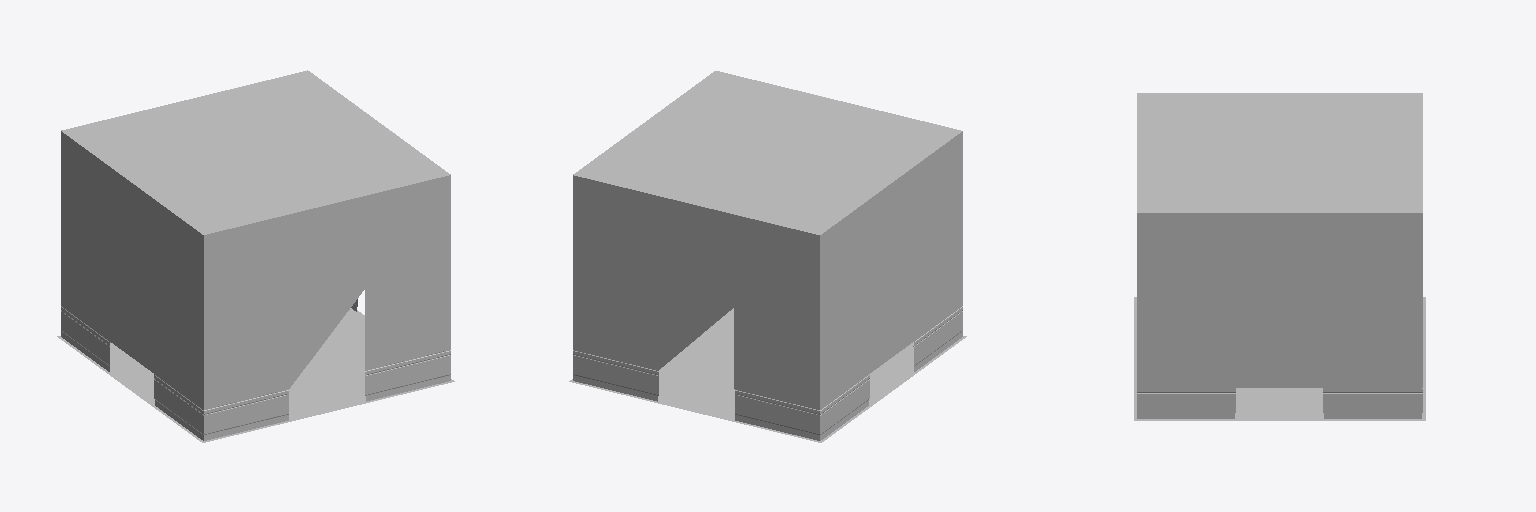
The model's file is Anubis_FourDoorRoom.obj.
3 views of the same model, side by side, from view 1: azimuth 30°, elevation 25°; view 2: azimuth 150°, elevation 25°; view 3: azimuth 270°, elevation 25° (orthographic).
Visible parts, largest first — view 1: Walls, Ceiling, WallTrim_WallTrim.001, Floor; view 2: Walls, Ceiling, WallTrim_WallTrim.001, Floor; view 3: Walls, Ceiling, WallTrim_WallTrim.001, Floor.
Part boxes in pixels (x1,y1,x2,y2): Walls: (61,131,450,409); Ceiling: (61,70,450,234); WallTrim_WallTrim.001: (61,299,450,440); Floor: (57,308,454,442); Walls: (573,131,962,409); Ceiling: (573,71,961,234); WallTrim_WallTrim.001: (573,306,962,440); Floor: (569,308,966,442); Walls: (1137,213,1422,387); Ceiling: (1137,93,1422,212); WallTrim_WallTrim.001: (1137,388,1422,418); Floor: (1134,297,1425,420).
Size of the model in its own units: 10 by 7.8 by 10.